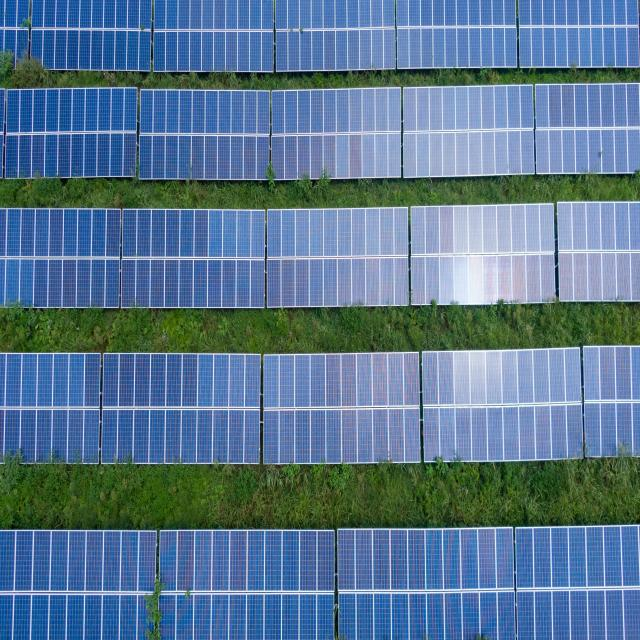Solar-panels: (1, 349, 640, 463), (1, 528, 640, 640), (1, 204, 640, 308), (1, 85, 640, 180), (1, 1, 640, 68)
